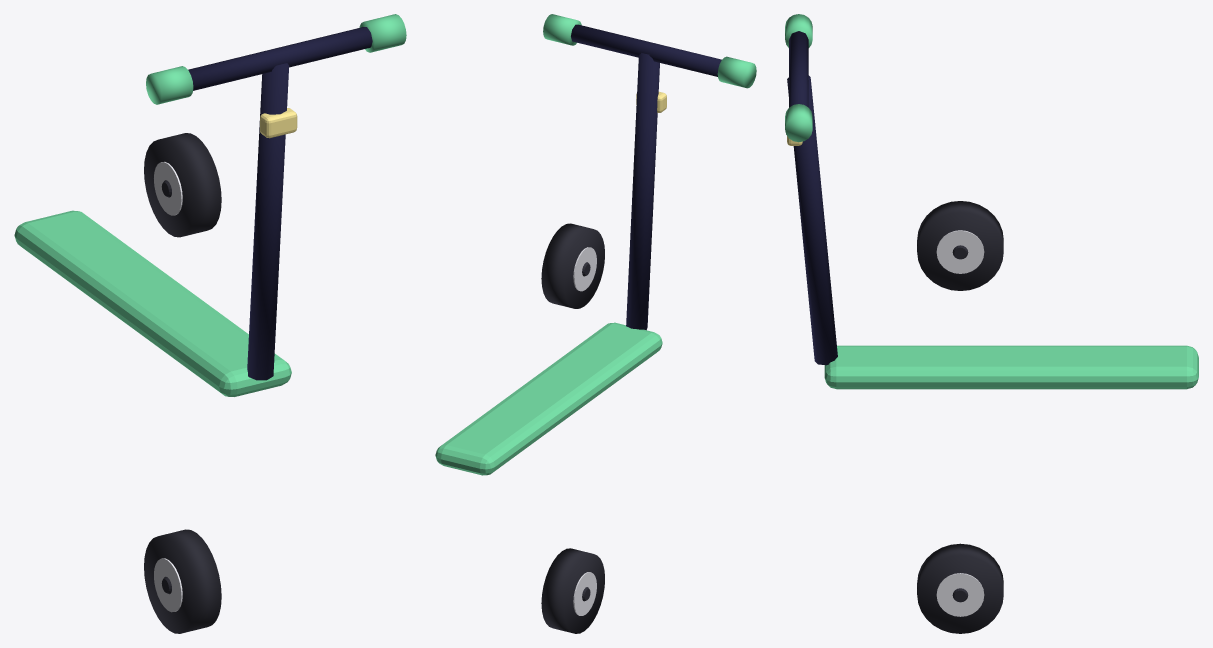
The model's file is Car_EScooter.fbx.
The picture shows the model from 3 angles, left to right: view 1: azimuth 30°, elevation 25°; view 2: azimuth 150°, elevation 25°; view 3: azimuth 270°, elevation 25°; orthographic projection. The views are drawn at different scales.
Visible parts, largest first — view 1: Car_EScooter, Wheel_F, Wheel_R; view 2: Car_EScooter, Wheel_F, Wheel_R; view 3: Car_EScooter, Wheel_F, Wheel_R.
Part boxes in pixels (left/top/right/bottom): Car_EScooter: left=14, top=14, right=406, bottom=396; Wheel_F: left=144, top=529, right=221, bottom=633; Wheel_R: left=144, top=133, right=221, bottom=237; Car_EScooter: left=435, top=14, right=756, bottom=475; Wheel_F: left=541, top=548, right=604, bottom=633; Wheel_R: left=541, top=223, right=604, bottom=308; Car_EScooter: left=785, top=14, right=1198, bottom=389; Wheel_F: left=917, top=543, right=1003, bottom=633; Wheel_R: left=917, top=201, right=1003, bottom=290.
Size of the model in its own units: 0.62 by 1.57 by 1.05.
